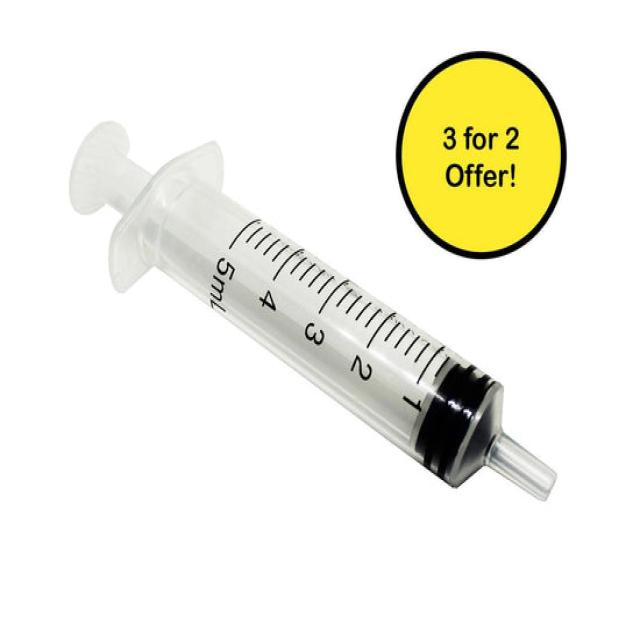syringe: (68, 118, 558, 502)
